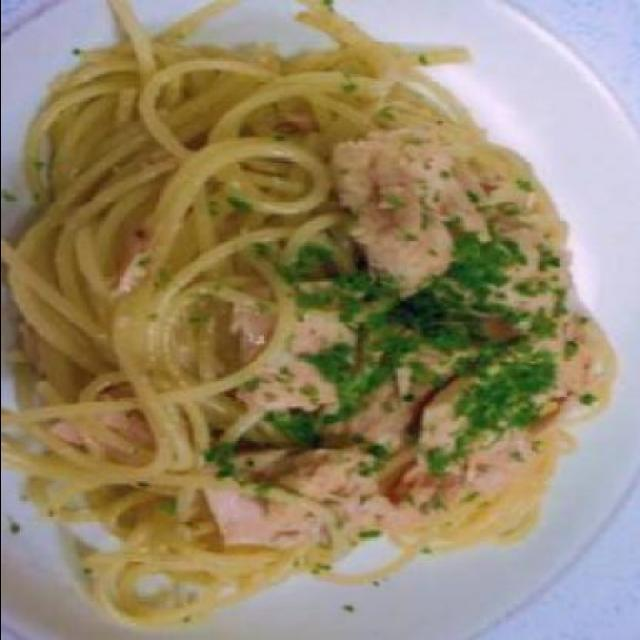Oil pasta: (2, 34, 606, 594)
